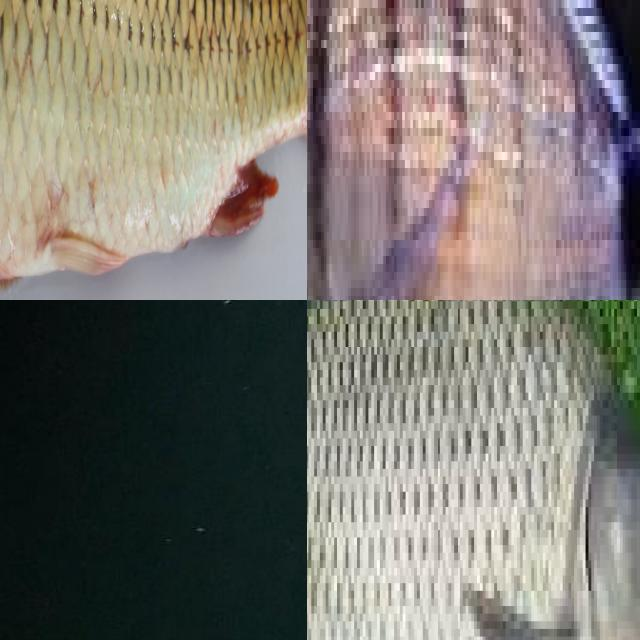fish: (307, 300, 640, 640), (307, 0, 637, 300), (0, 0, 307, 300)
